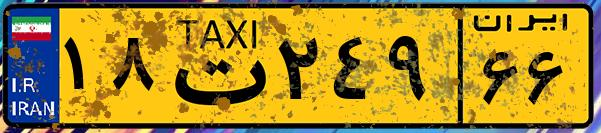1: (57, 26, 110, 100)
2: (270, 28, 330, 110)
4: (330, 28, 385, 110)
6: (475, 38, 525, 113), (525, 38, 570, 115)
8: (110, 28, 158, 98)
9: (385, 28, 445, 110)
ت: (158, 12, 270, 120)
